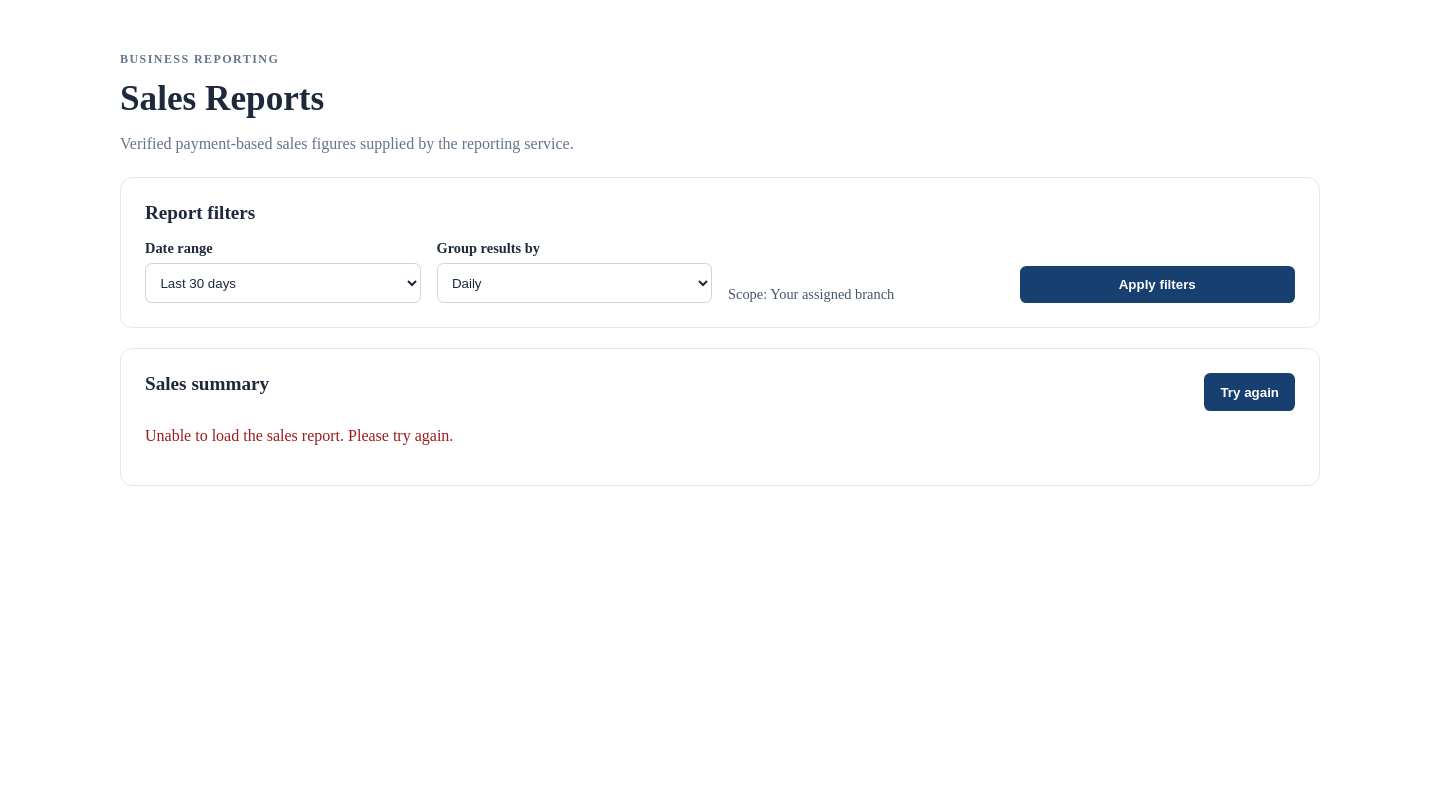
Test: sales reporting dashboard › retries a failed request using approved filters
expect the message shows "Unable to load": met, box [145,427,453,444]
Click the button "Try again" at (1250, 392), box [1204,373,1295,411]
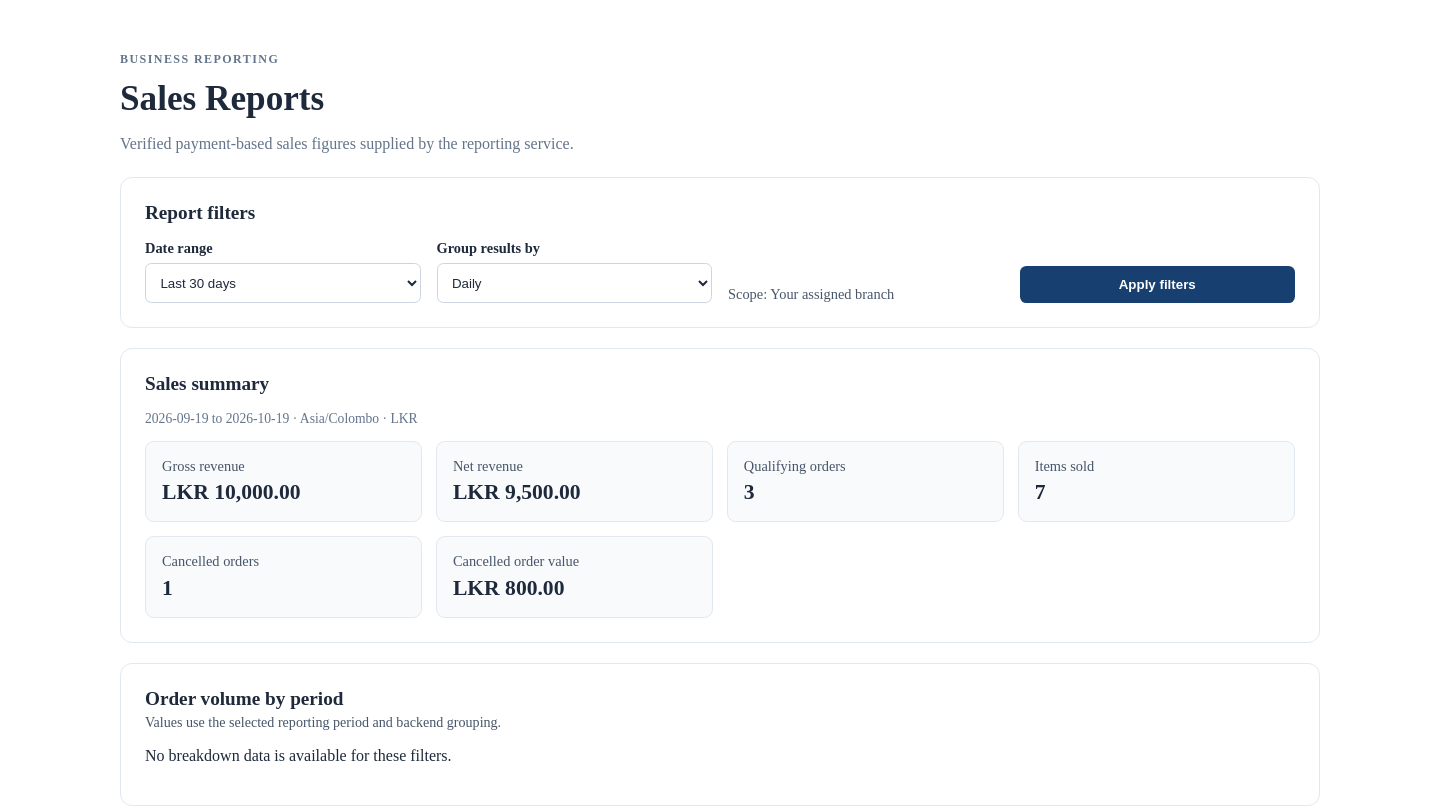
expect the text "Gross revenue" is shown: met, box [162,458,245,474]
